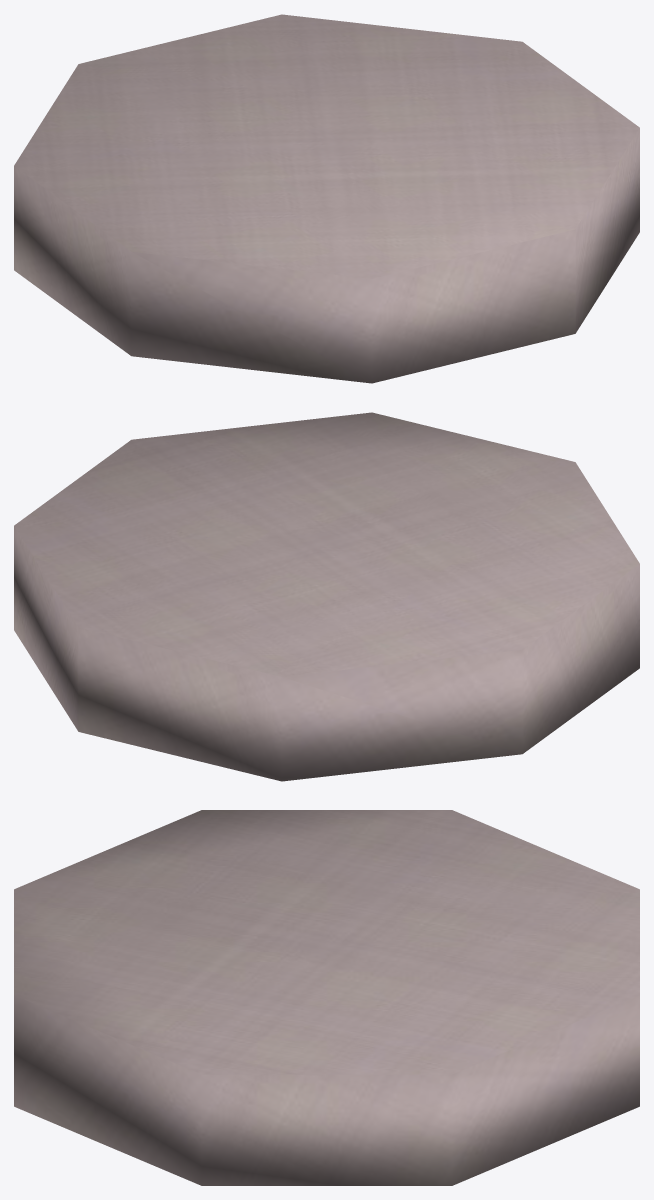
Rendered from ceiling_light.glb.
The picture shows the model from 3 angles, top to bottom: view 1: azimuth 30°, elevation 25°; view 2: azimuth 150°, elevation 25°; view 3: azimuth 270°, elevation 25°; orthographic projection. The views are drawn at different scales.
Parts seen in each view (by area): view 1: Ceiling_Light; view 2: Ceiling_Light; view 3: Ceiling_Light.
Boxes of the visible parts, bbox=[...] form: Ceiling_Light: bbox=[14, 14, 639, 383]; Ceiling_Light: bbox=[14, 412, 639, 781]; Ceiling_Light: bbox=[14, 810, 639, 1185].
Bounding box in the file's own units: 0.42 × 0.1001 × 0.42.
Materials: 1 (1 with a texture image).
